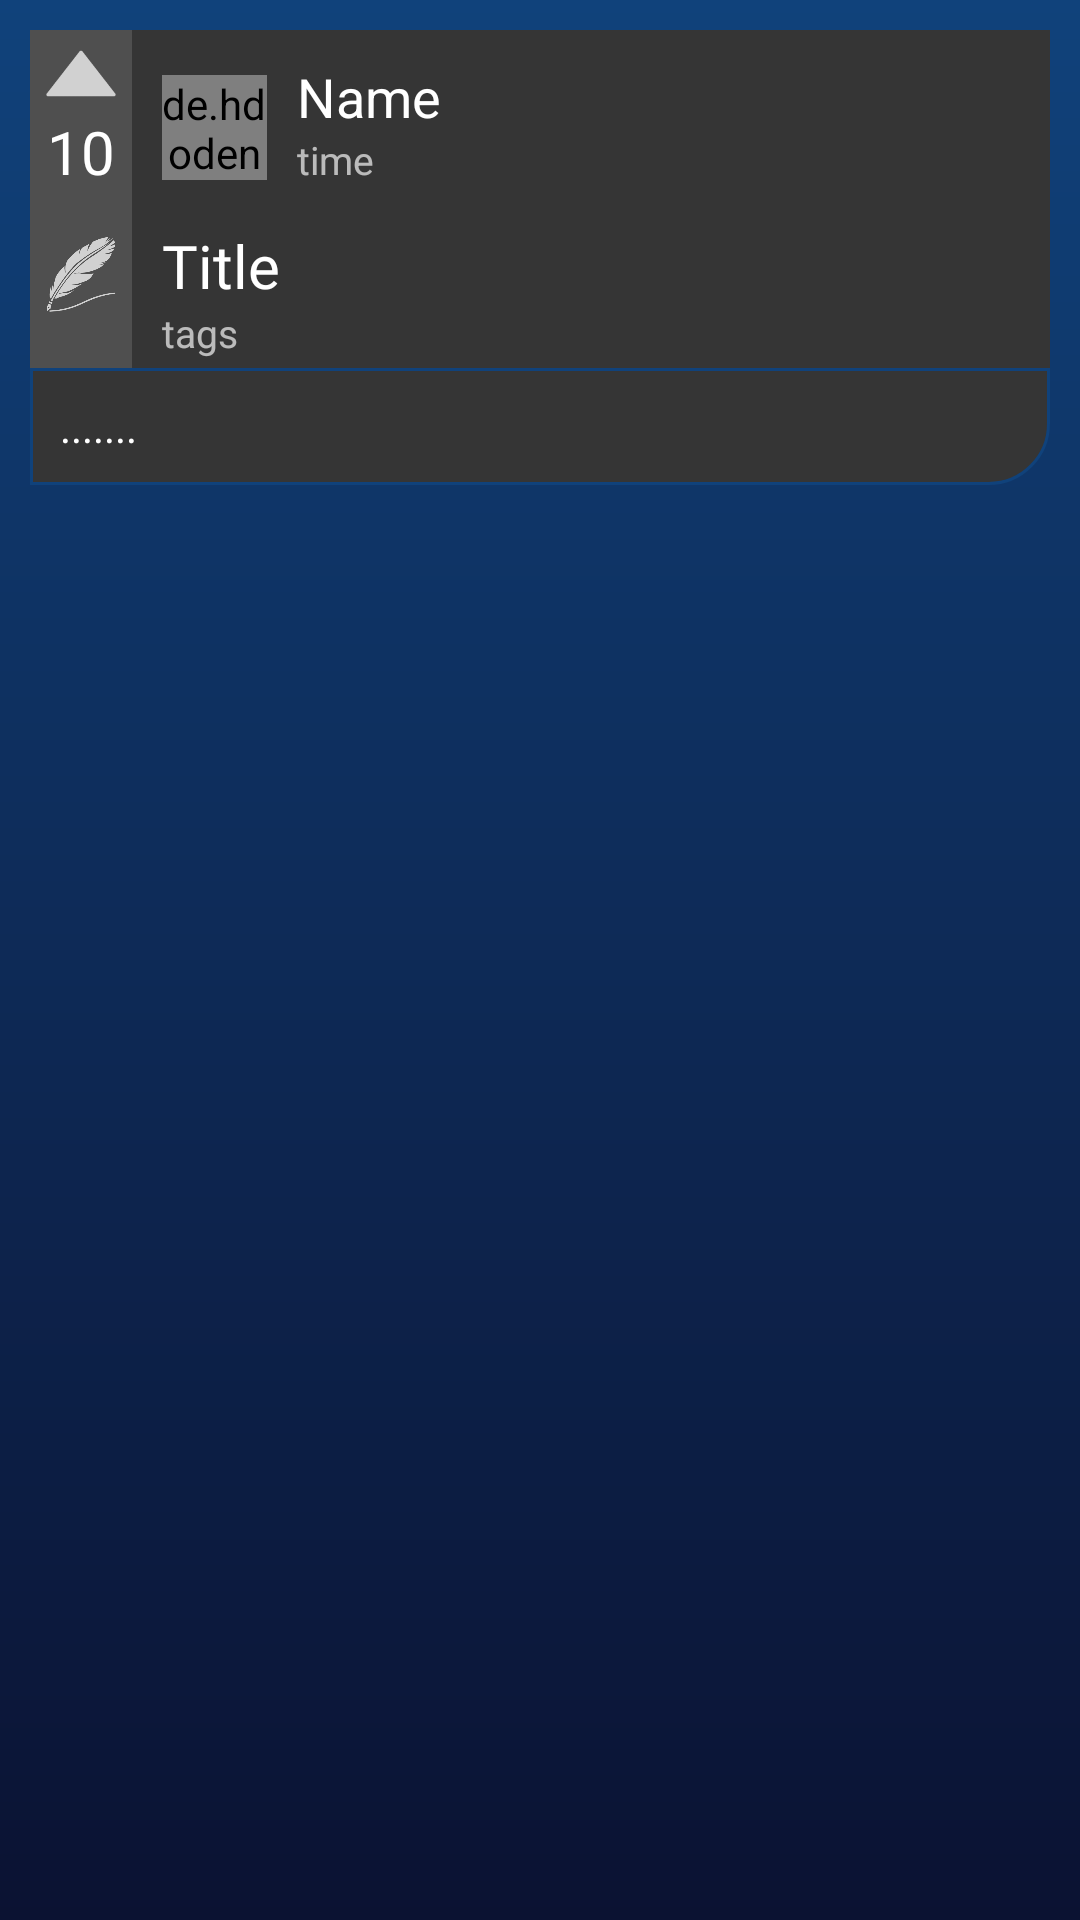

Point at icon controls on the screen. Image size 1080w x 1920h, points as (x=x, y=y).
arrow up: (x=81, y=74)
draw: (x=81, y=274)
